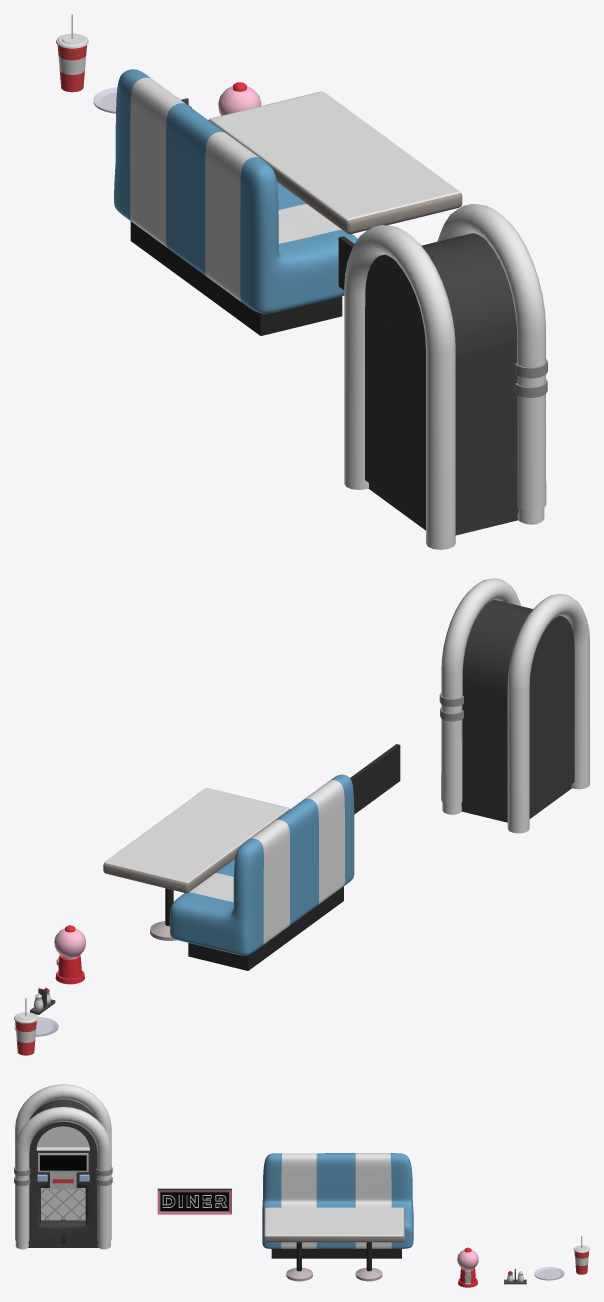
The model's file is РЕТРО КАФЕТ ПРОПС.fbx.
3 renders of one model, top to bottom at view 1: azimuth 30°, elevation 25°; view 2: azimuth 150°, elevation 25°; view 3: azimuth 270°, elevation 25°, orthographic. The views are drawn at different scales.
Visible parts, largest first — view 1: Cube, Cube.005, Cylinder.001, Cylinder.006, Cylinder.007; view 2: Cube, Cube.005, Cylinder.001, Text, Cylinder.007, Cylinder.006; view 3: Cube, Cube.005, Cylinder.001, Text, Cylinder.007, Cylinder.006, Cylinder.005.
Part boxes in pixels (<box>): Cube: <box>344,204,547,549</box>; Cube.005: <box>114,69,357,335</box>; Cylinder.001: <box>208,91,462,234</box>; Cylinder.006: <box>56,14,88,92</box>; Cylinder.007: <box>218,82,261,115</box>; Cube: <box>439,578,589,833</box>; Cube.005: <box>170,774,354,970</box>; Cylinder.001: <box>103,788,290,940</box>; Text: <box>350,744,400,814</box>; Cylinder.007: <box>54,925,85,984</box>; Cylinder.006: <box>14,998,37,1055</box>; Cube: <box>14,1084,112,1249</box>; Cube.005: <box>262,1153,413,1258</box>; Cylinder.001: <box>263,1207,404,1281</box>; Text: <box>157,1188,231,1214</box>; Cylinder.007: <box>457,1247,478,1287</box>; Cylinder.006: <box>573,1235,589,1274</box>; Cylinder.005: <box>534,1267,564,1280</box>.
Bounding box in the file's own units: 1608 × 1567 × 5789.
